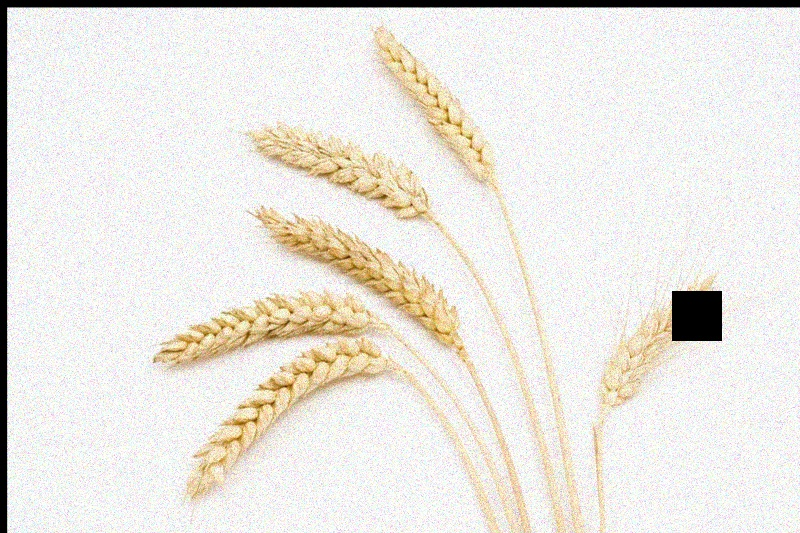wheat: (150, 339, 405, 508), (247, 207, 468, 350), (367, 21, 516, 221), (594, 244, 728, 444), (247, 118, 453, 236), (147, 289, 381, 366)
